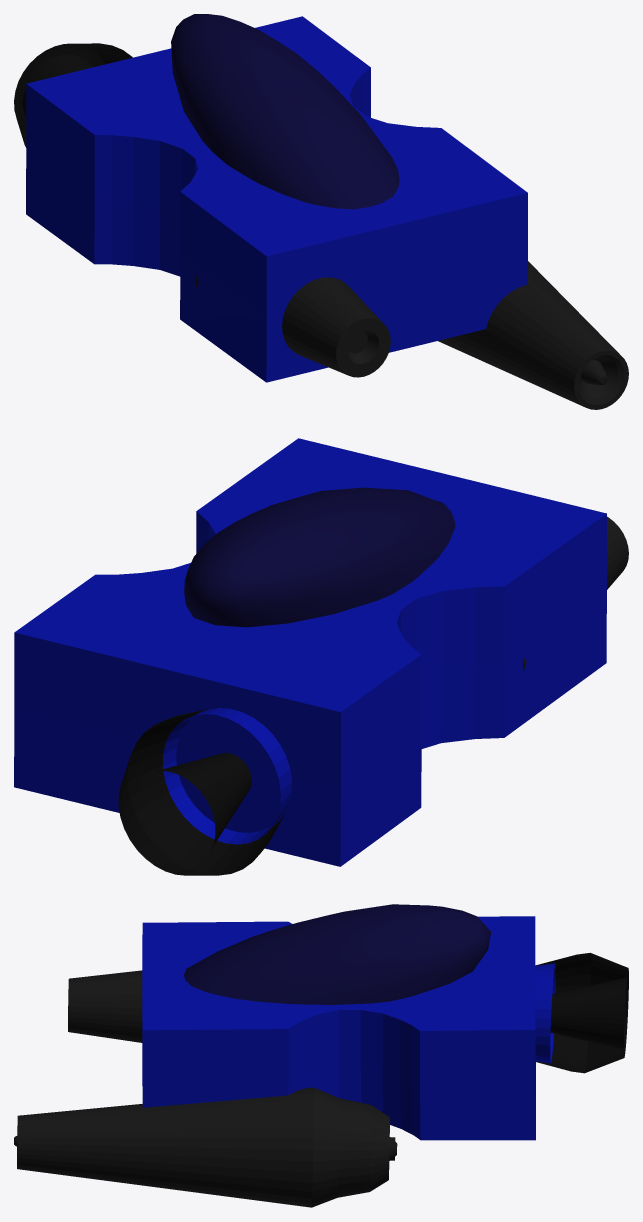
Rendered from sacapunta.obj.
3 views of the same model, one above another, from view 1: azimuth 30°, elevation 25°; view 2: azimuth 150°, elevation 25°; view 3: azimuth 270°, elevation 25° (orthographic). The views are drawn at different scales.
Visible parts, largest first — view 1: Plane, Icosphere, Cylinder.001, Cylinder, Plane.002; view 2: Plane, Icosphere, Plane.002, Cylinder; view 3: Plane, Cylinder.001, Icosphere, Plane.002, Cylinder.
Part boxes in pixels (x1=…): Plane: x1=26, y1=16, x2=527, y2=382; Icosphere: x1=171, y1=14, x2=399, y2=209; Cylinder.001: x1=438, y1=261, x2=628, y2=409; Cylinder: x1=195, y1=275, x2=390, y2=377; Plane.002: x1=14, y1=43, x2=132, y2=147; Plane: x1=14, y1=438, x2=606, y2=866; Icosphere: x1=184, y1=487, x2=455, y2=627; Plane.002: x1=118, y1=709, x2=284, y2=875; Cylinder: x1=523, y1=516, x2=628, y2=672; Plane: x1=142, y1=916, x2=555, y2=1140; Cylinder.001: x1=14, y1=1087, x2=397, y2=1207; Icosphere: x1=184, y1=904, x2=490, y2=1004; Plane.002: x1=535, y1=952, x2=628, y2=1073; Cylinder: x1=68, y1=970, x2=142, y2=1042.
Bounding box in the file's own units: 5.93 × 4.81 × 11.34.
